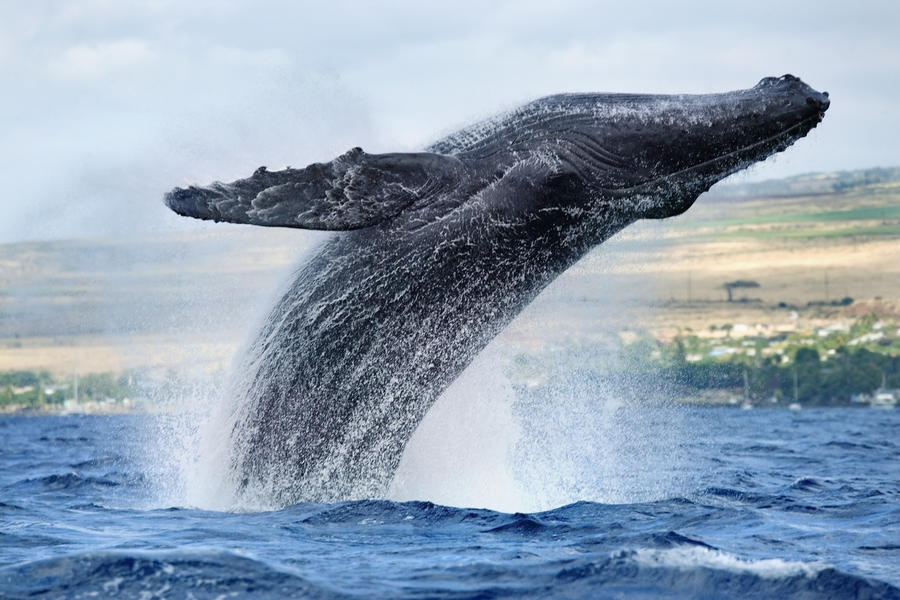humpback: (186, 64, 839, 507)
